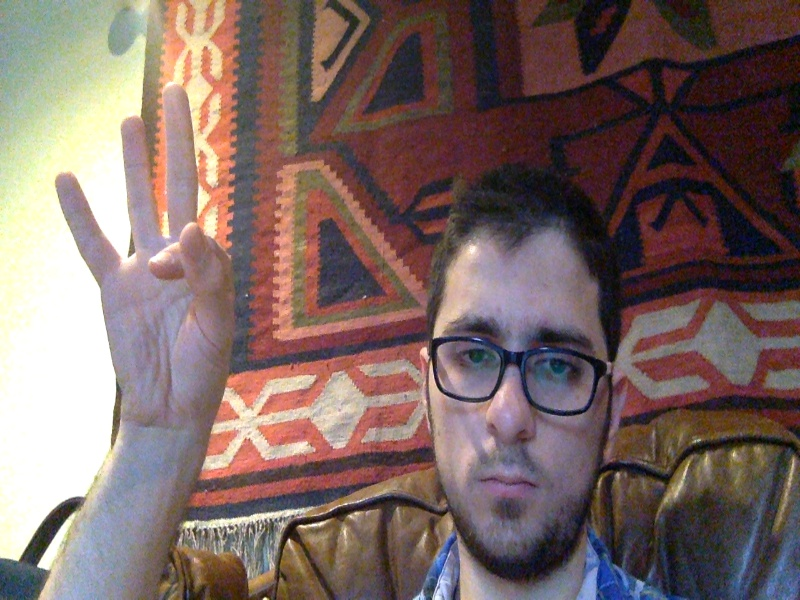3-hand: (54, 84, 235, 429)
